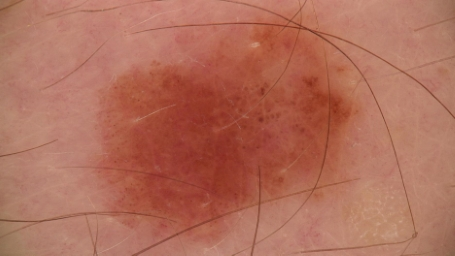nevus: (86, 35, 351, 238)
